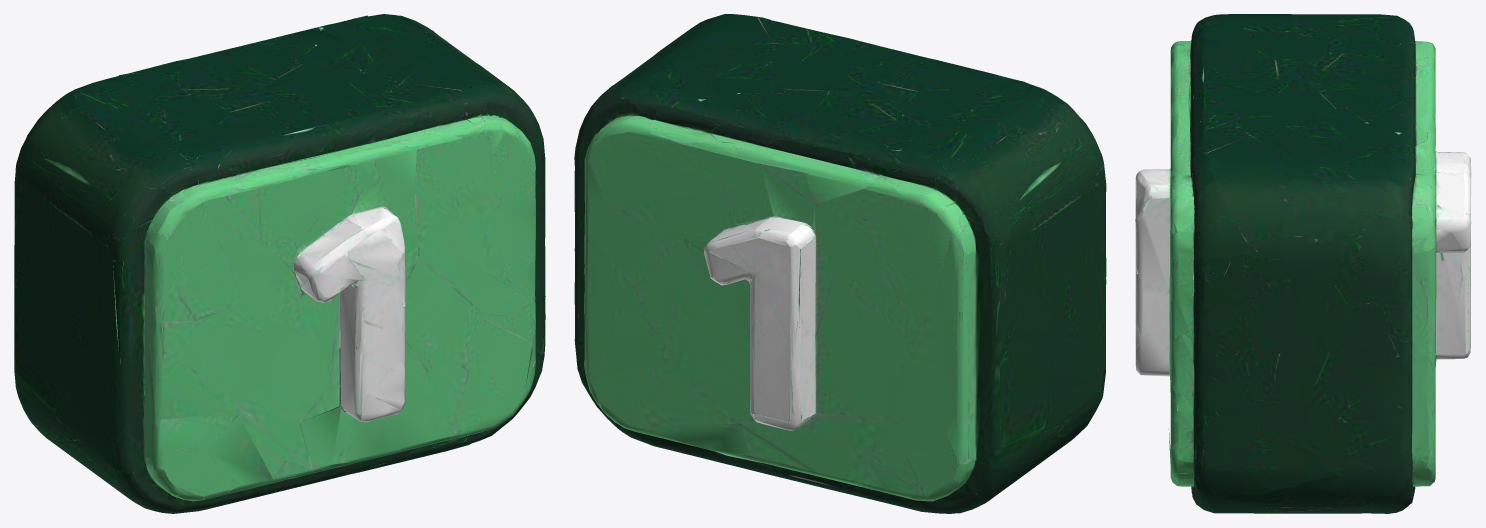
File: door-sign.glb
The picture shows the model from 3 angles, left to right: view 1: azimuth 30°, elevation 25°; view 2: azimuth 150°, elevation 25°; view 3: azimuth 270°, elevation 25°; orthographic projection. The views are drawn at different scales.
Parts seen in each view (by area): view 1: Mesh_0; view 2: Mesh_0; view 3: Mesh_0.
Part boxes in pixels (bbox=[...]): Mesh_0: bbox=[14, 14, 545, 513]; Mesh_0: bbox=[574, 14, 1106, 513]; Mesh_0: bbox=[1135, 14, 1471, 513].
Size of the model in its own units: 1.9 by 1.51 by 1.32.
1 material, 1 textured.
